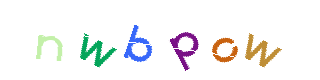B: (97, 0, 177, 80)
C: (144, 0, 224, 80)
N: (55, 0, 135, 80)
P: (119, 0, 199, 80)
W: (71, 0, 151, 80), (205, 0, 285, 80)
